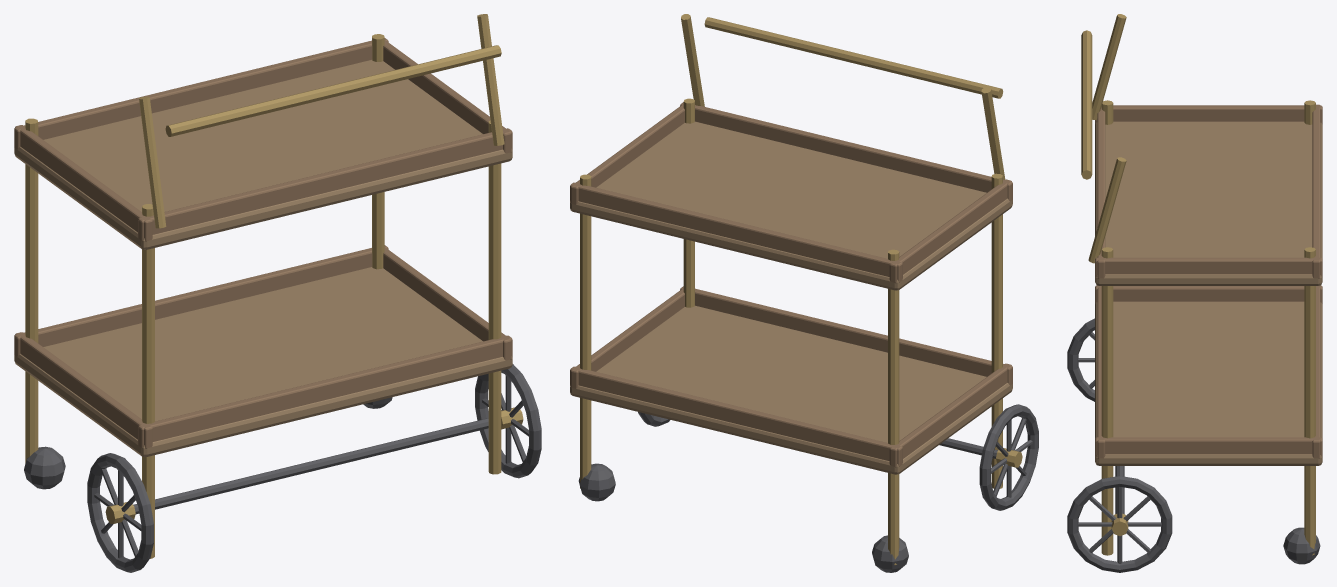
3 views of the same model, side by side, from view 1: azimuth 30°, elevation 25°; view 2: azimuth 150°, elevation 25°; view 3: azimuth 270°, elevation 25° (orthographic). The views are drawn at different scales.
Parts seen in each view (by area): view 1: teaTrolley; view 2: teaTrolley; view 3: teaTrolley.
Part boxes in pixels (x1,y1,x2,y2): teaTrolley: (14,14,541,572); teaTrolley: (570,14,1038,572); teaTrolley: (1067,14,1322,572).
Size of the model in its own units: 0.99 by 1.08 by 0.617.
